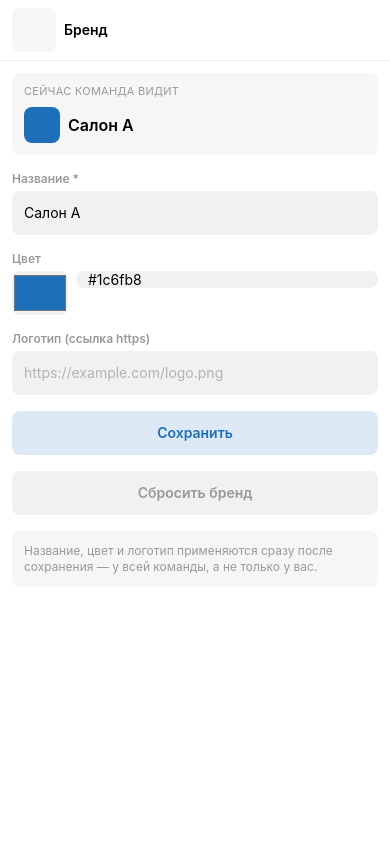
Test: BrandScreen › объясняет ошибку цвета человеческим текстом
What coordinates should you click on to do the following:
click the button "Сохранить"
I would click on:
 (195, 433)
Its box is [12,411,378,455].
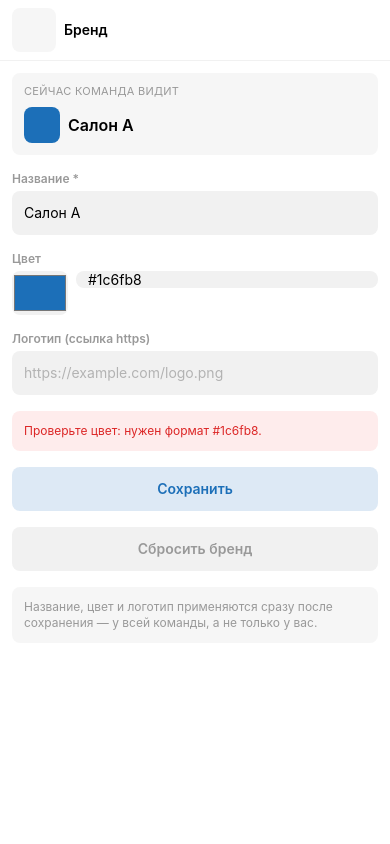
Expected: the message shows "нужен формат #1c6fb8", [24,423,262,438]
